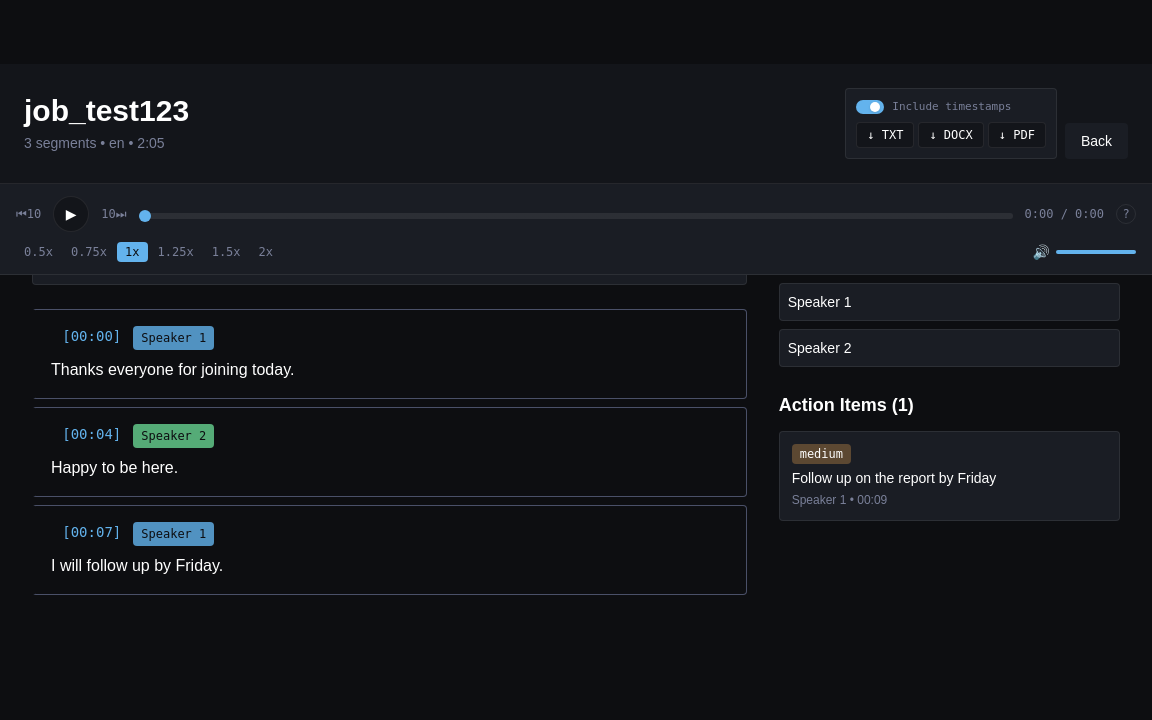
Speaker rename behavior › pressing Escape cancels edit without saving
The image size is (1152, 720).
Click the text with test id "speaker-label" below "Speakers (": (820, 302) [788,294,852,310]
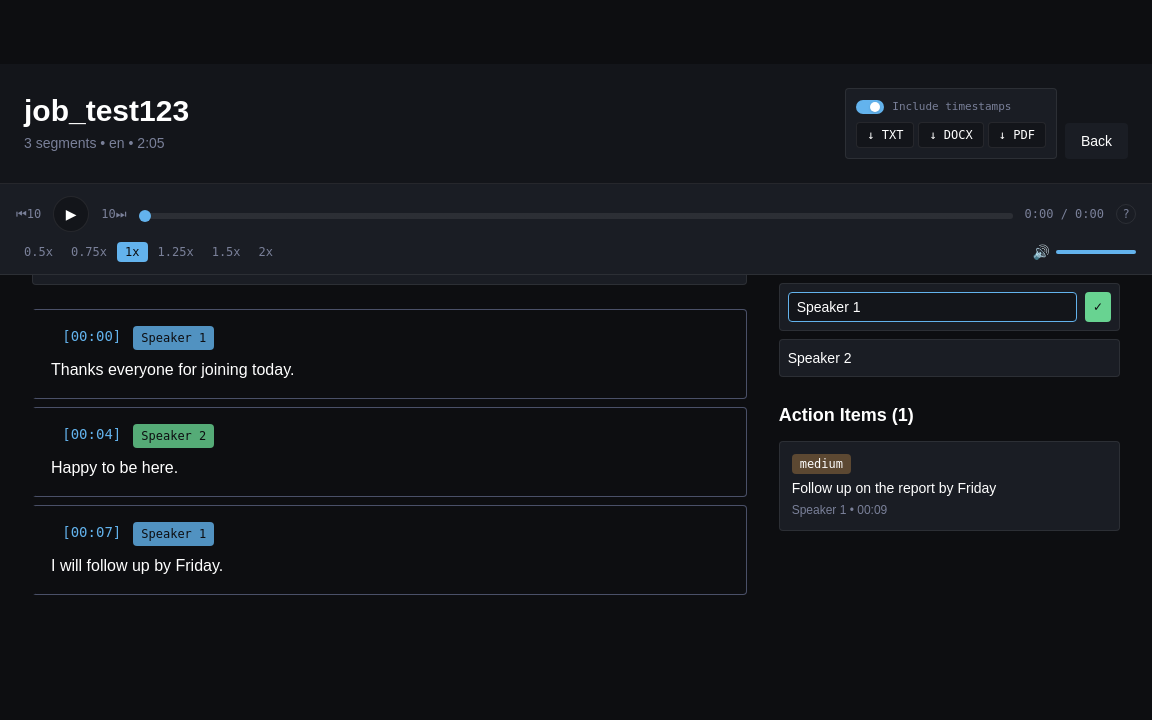
Replace the text in the field named "rename speaker" with "ShouldNotSave": (932, 306) [788,292,1077,322]
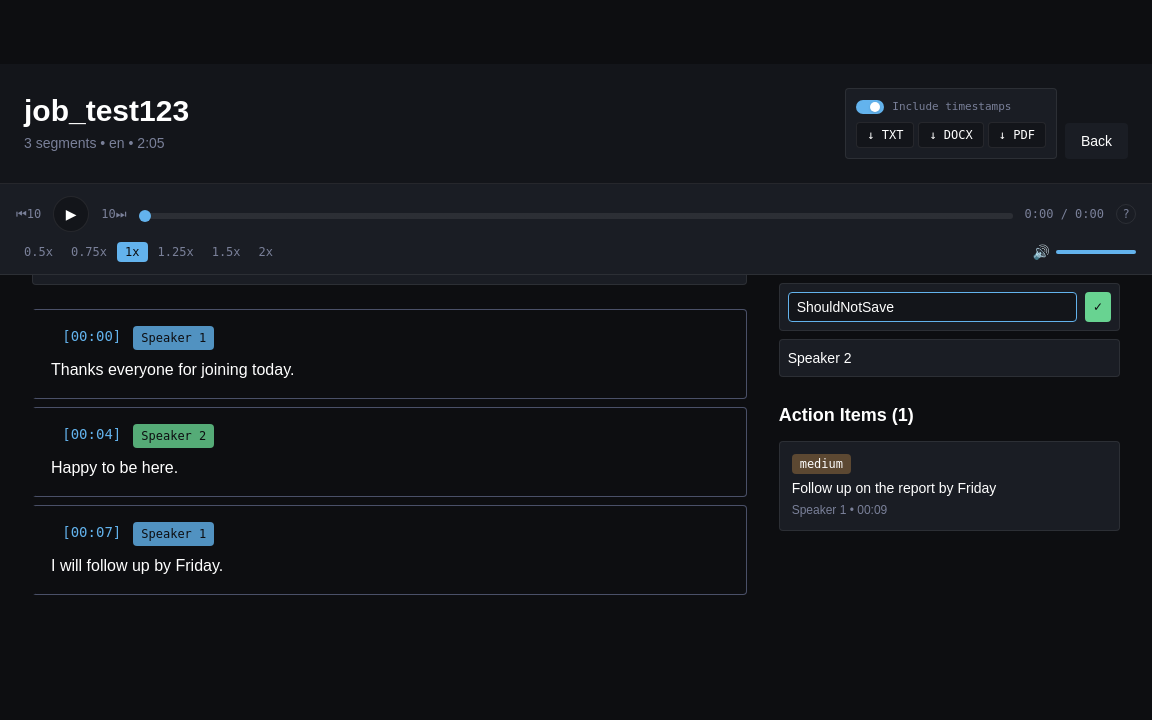
Press Escape
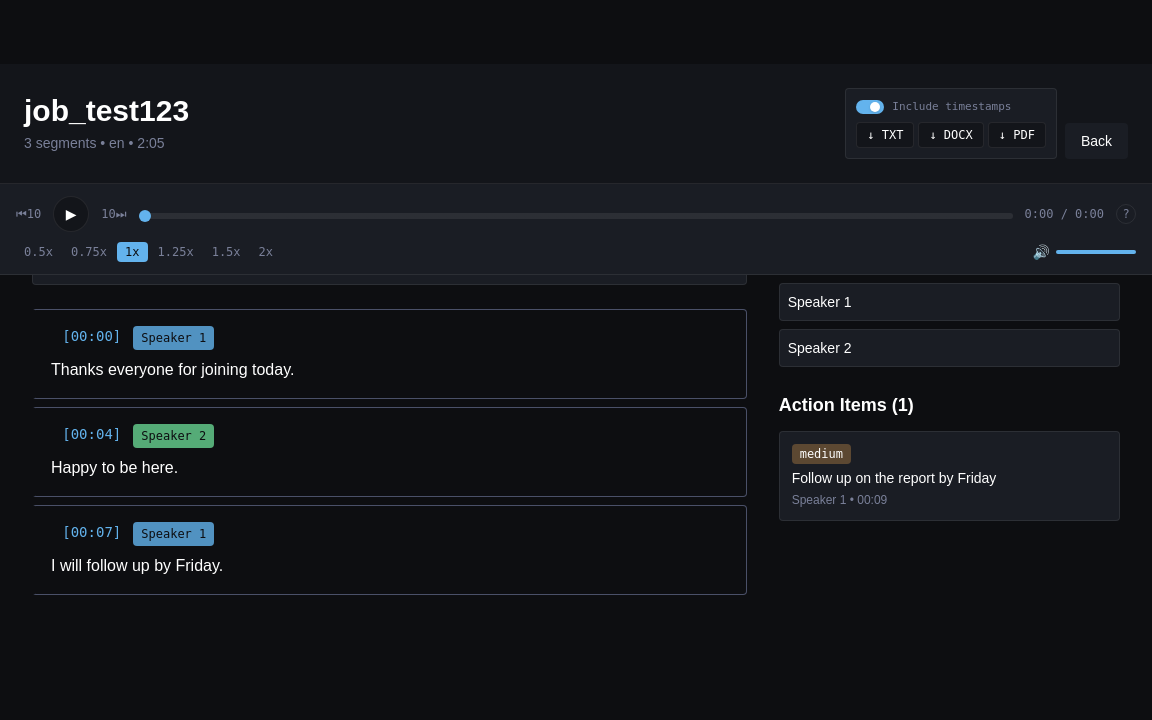
Result: the text with test id "speaker-label" below "Speakers (" is shown at [788,294,852,310]
